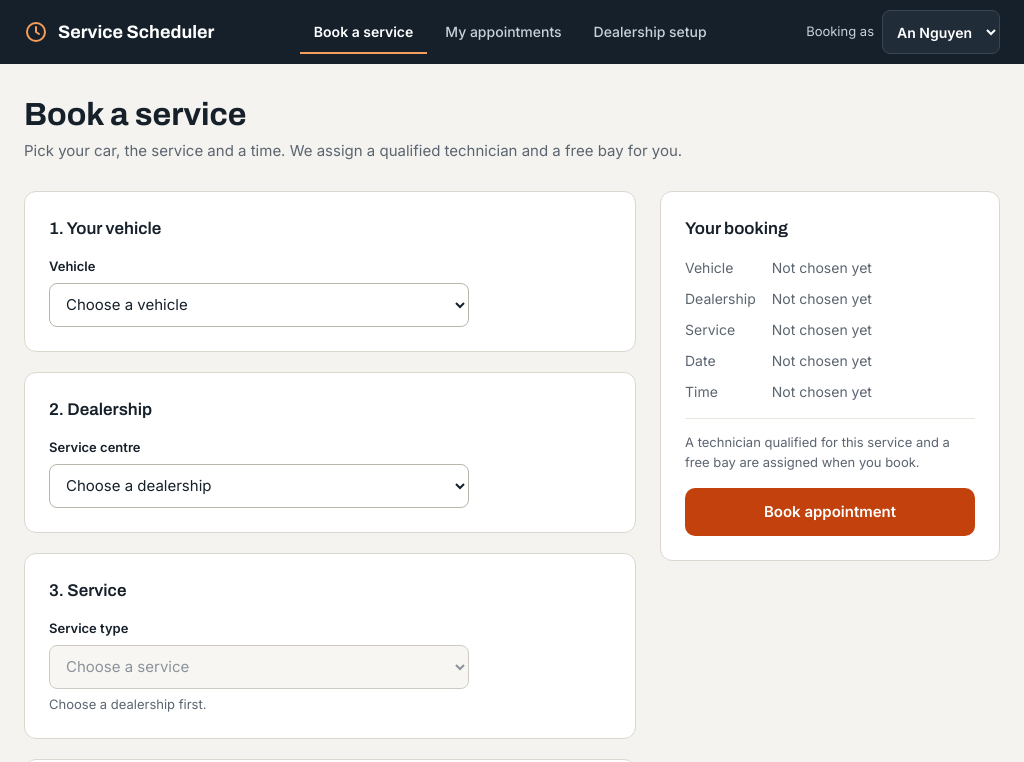
Booking as (customer switcher) › switching shows the other customer's cars and starts a fresh booking form
Select "Toyota Vios 2021 · VIN JTDBT923X71000001" in the dropdown labelled "Vehicle": (259, 305) x1=49 y1=283 x2=469 y2=327
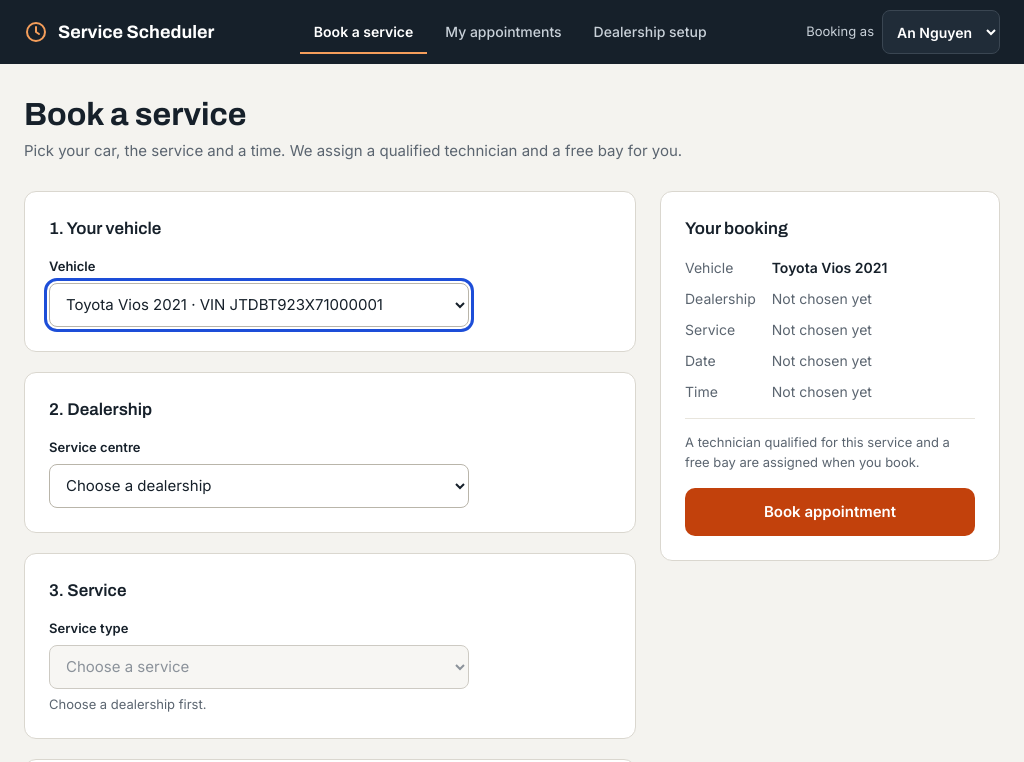
Select "District 1 Service Centre · open 08:00–17:00" in the dropdown labelled "Service centre": (259, 486) x1=49 y1=464 x2=469 y2=508
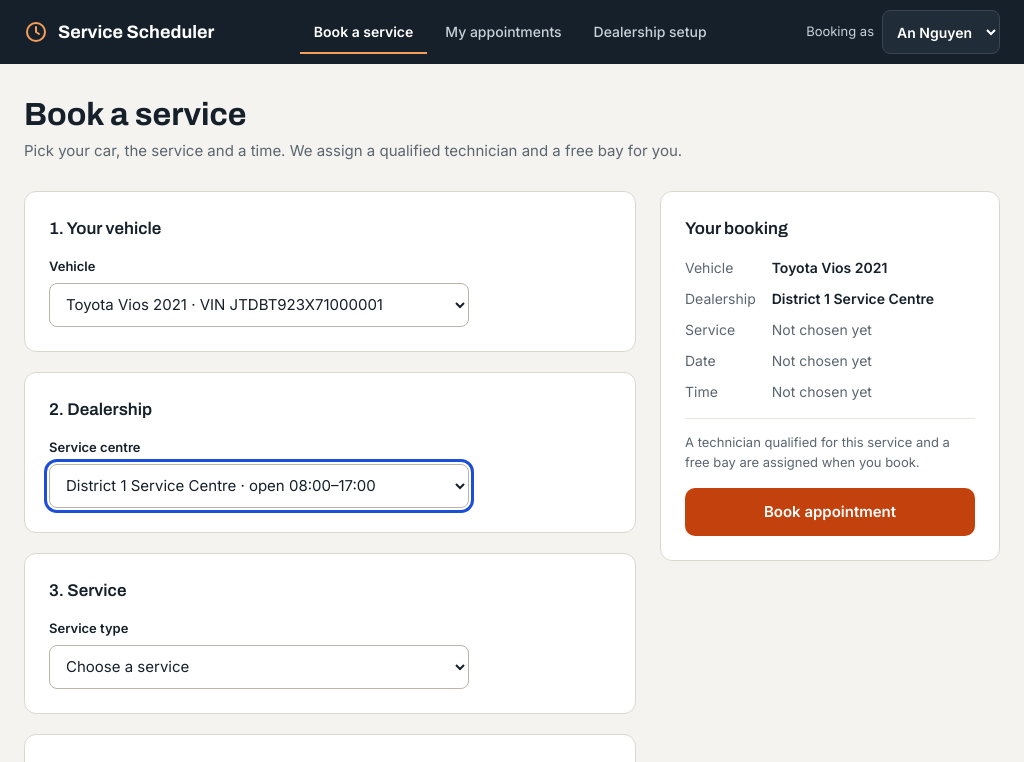
Select "Chi Le" in the dropdown labelled "Booking as": (941, 32) x1=882 y1=10 x2=1000 y2=54
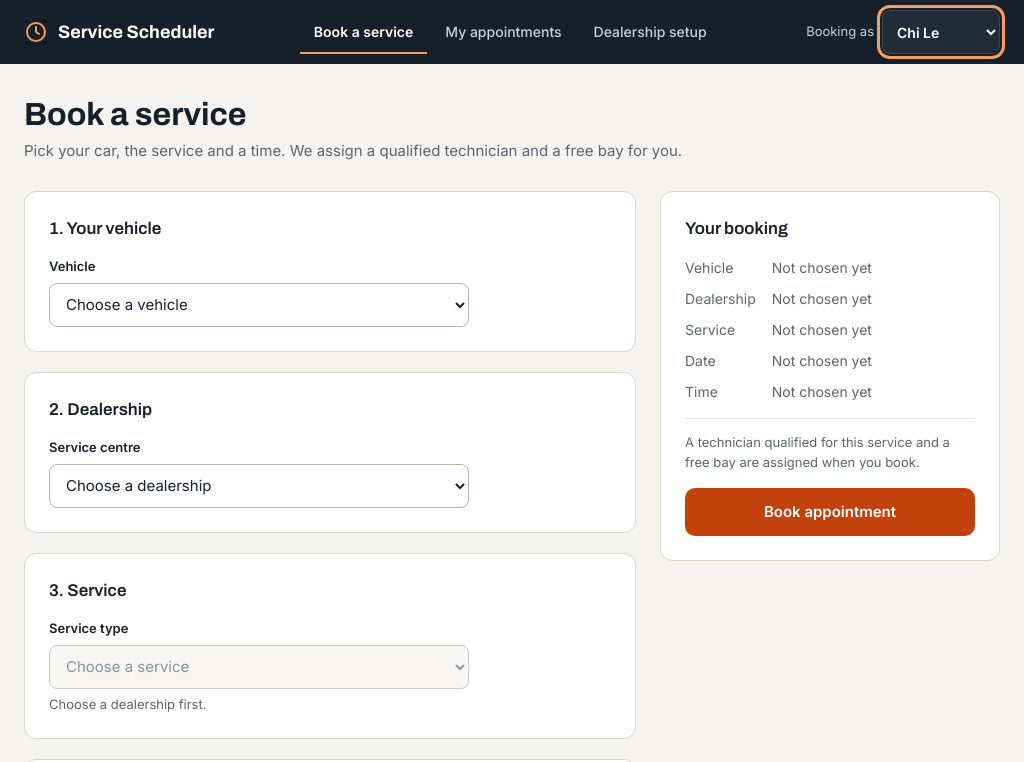
Result: the dropdown labelled "Vehicle" shows "Choose a vehicle" at x1=49 y1=283 x2=469 y2=327
Result: the dropdown labelled "Service centre" shows "Choose a dealership" at x1=49 y1=464 x2=469 y2=508
